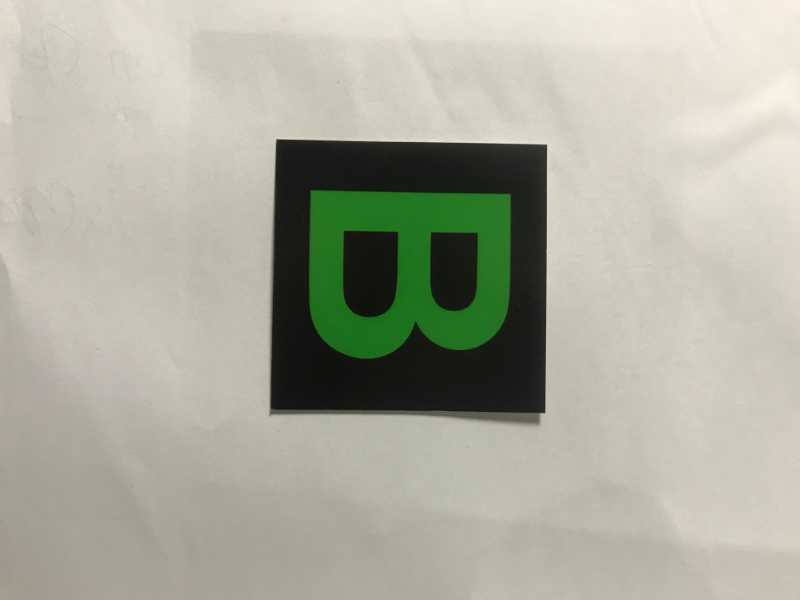B-12: (281, 144, 542, 406)
